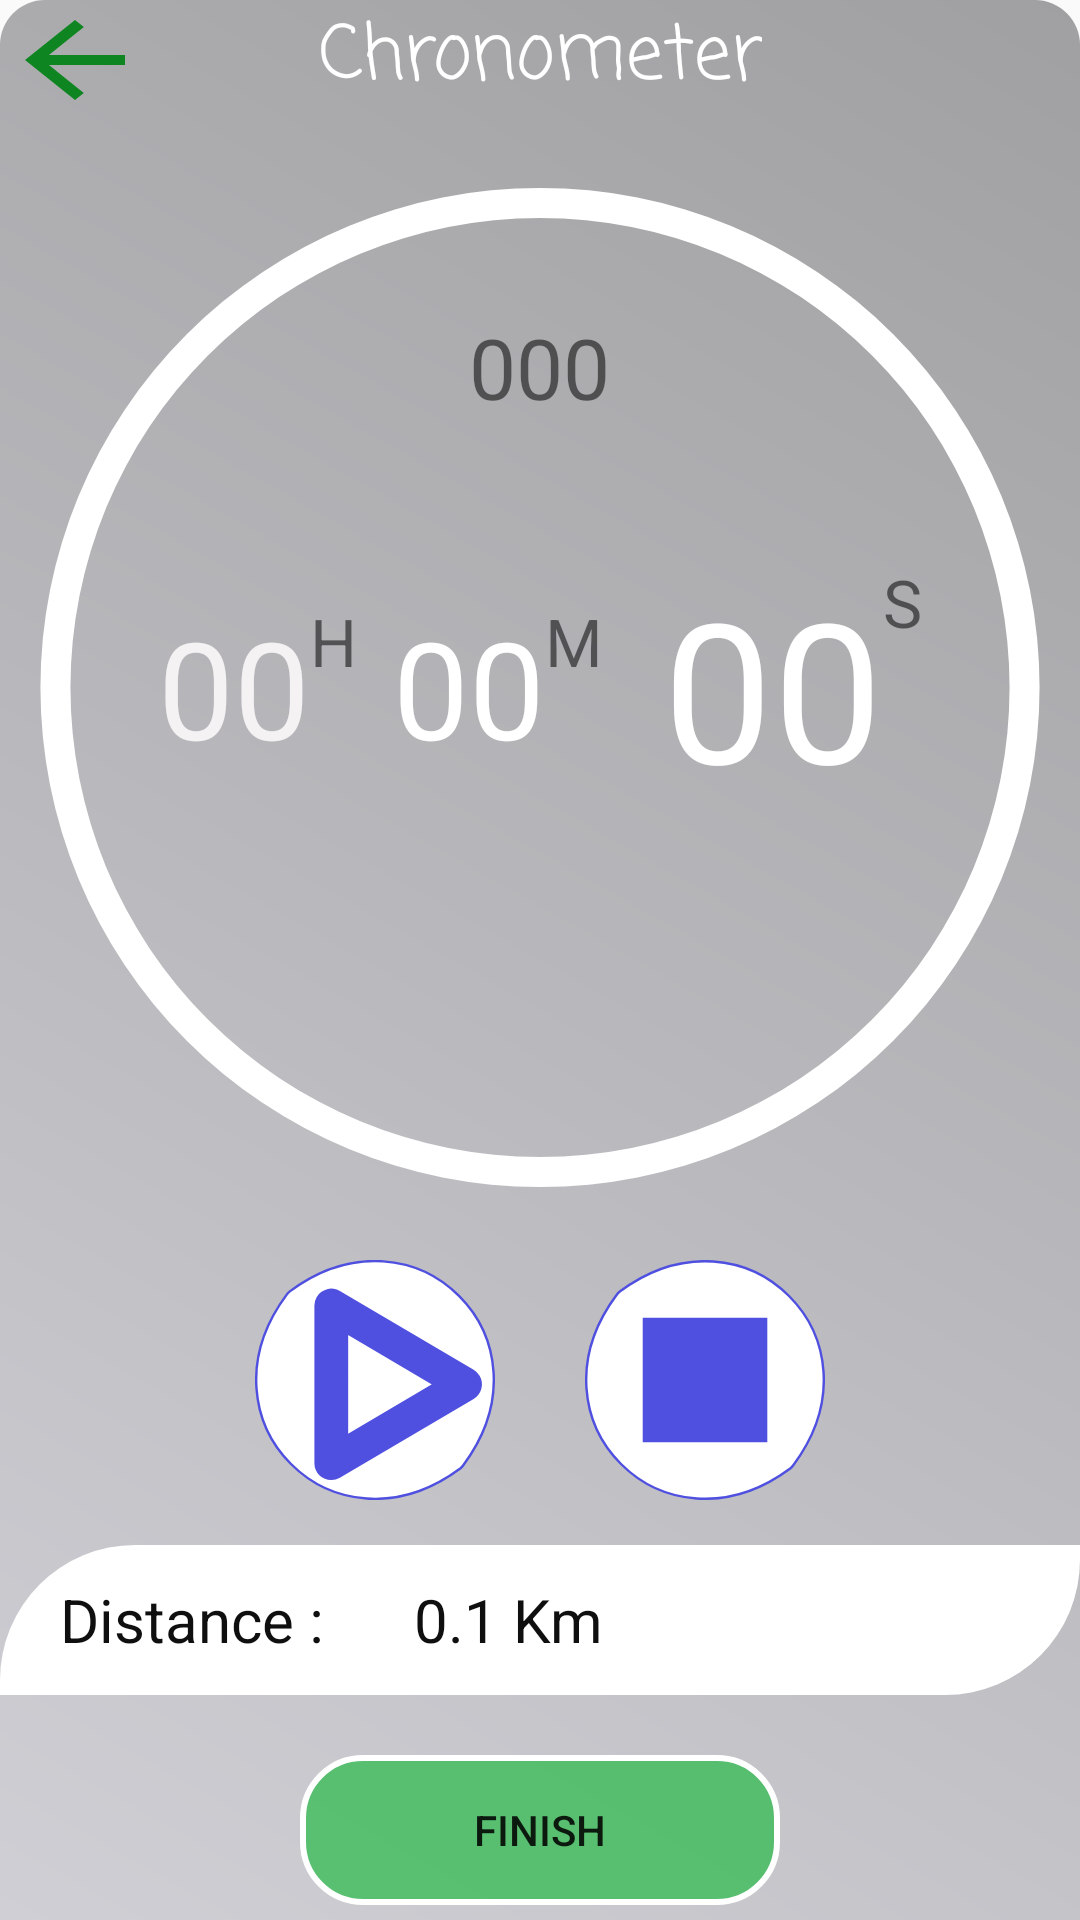

Point at icon controls on the screen. Image size 1080×1920, points as point (x, y).
arrow: point (62, 50)
play: point (375, 1380)
